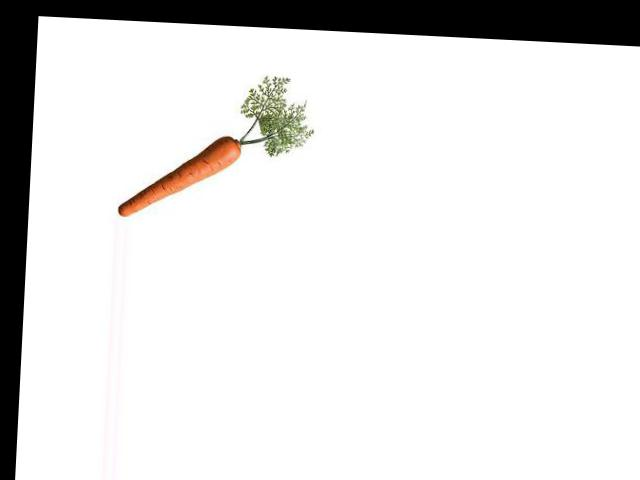carrot: (115, 126, 245, 222)
